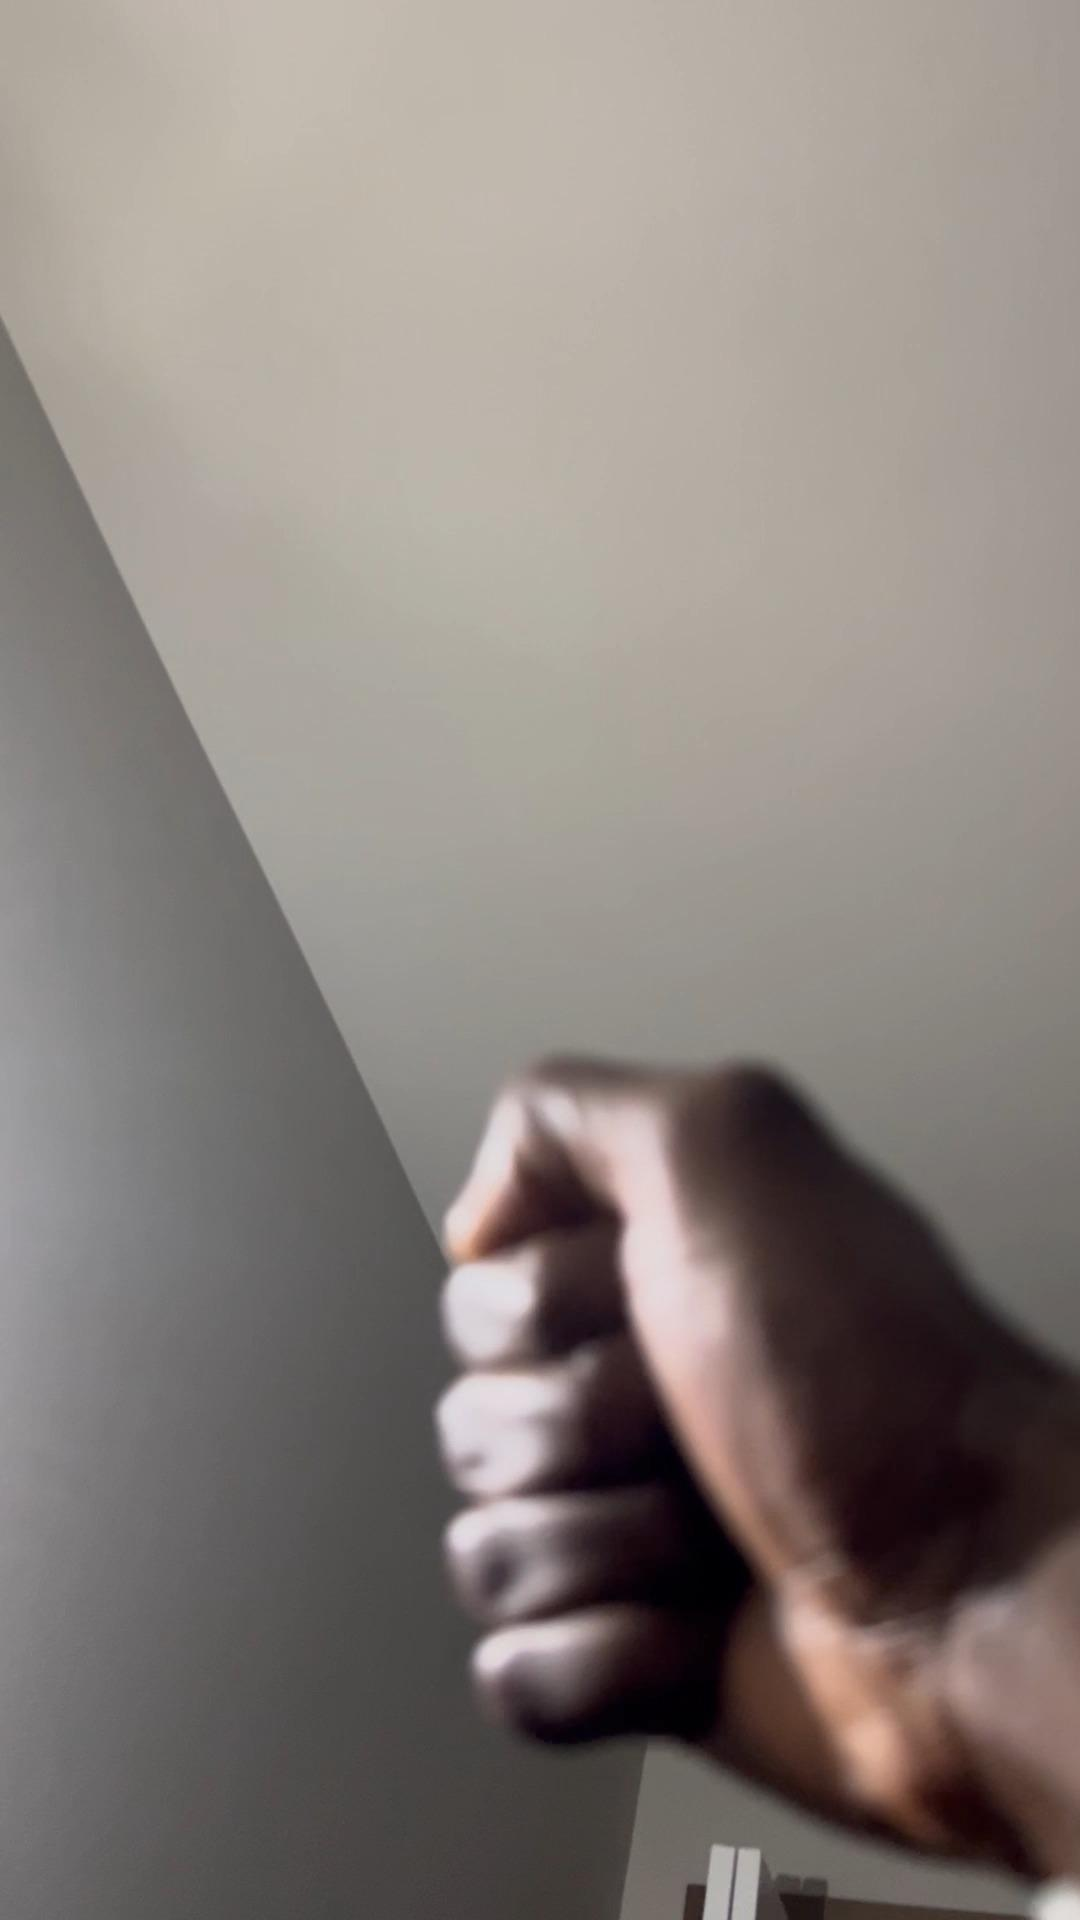Rock: (434, 1043, 1054, 1873)
